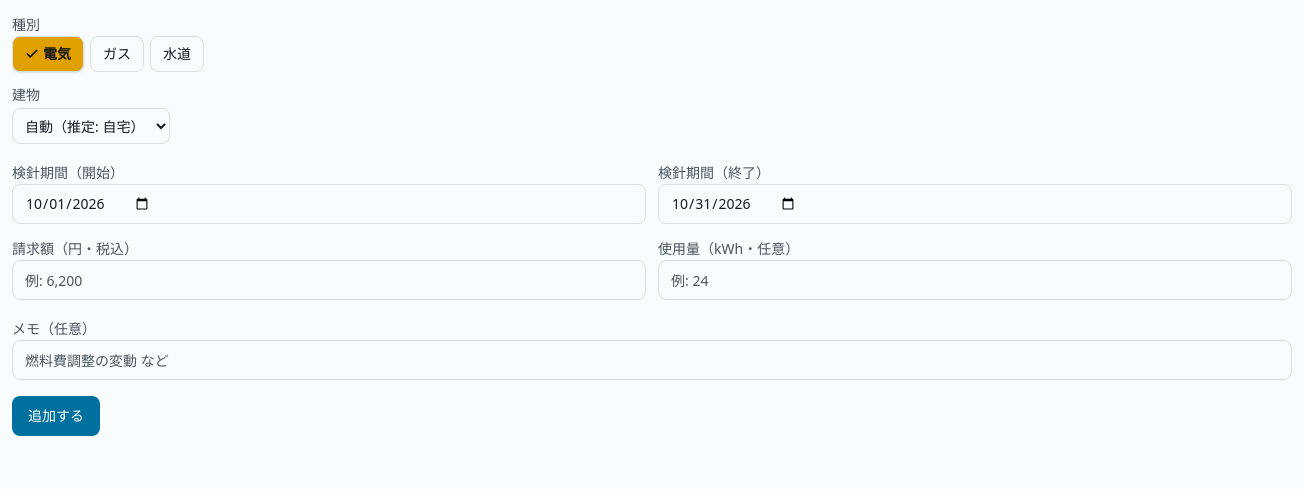
Test: EntryForm › adds a bill with a lenient amount, infers the building from the period and moves on to the next period
Type "2026-07-01" into the date field labelled "検針期間（開始）" at [329, 204], box [12,184,646,224]
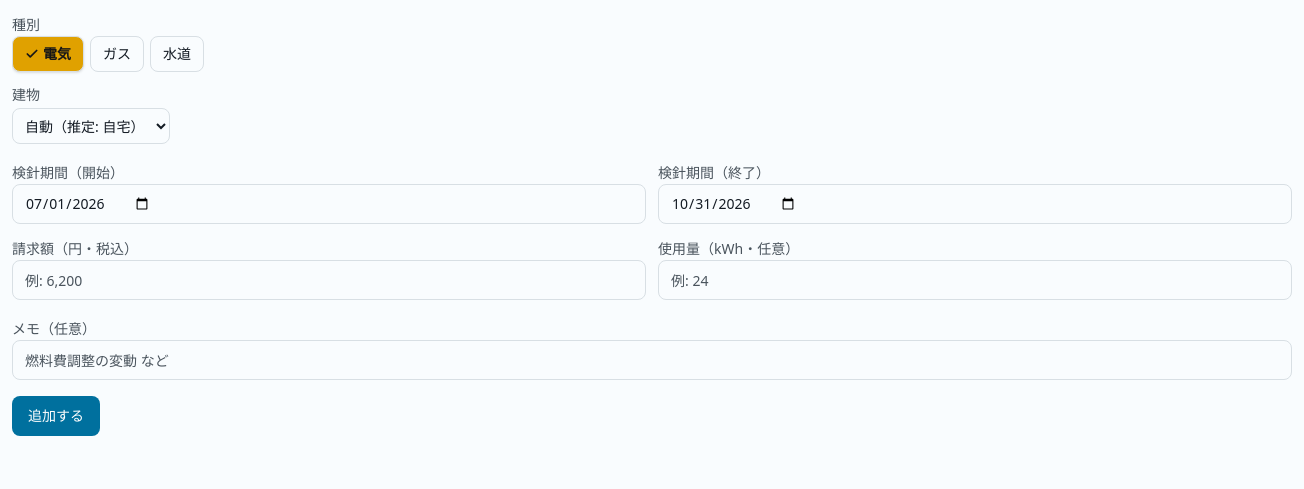
Type "2026-07-31" into the date field labelled "検針期間（終了）" at [975, 204], box [658,184,1292,224]
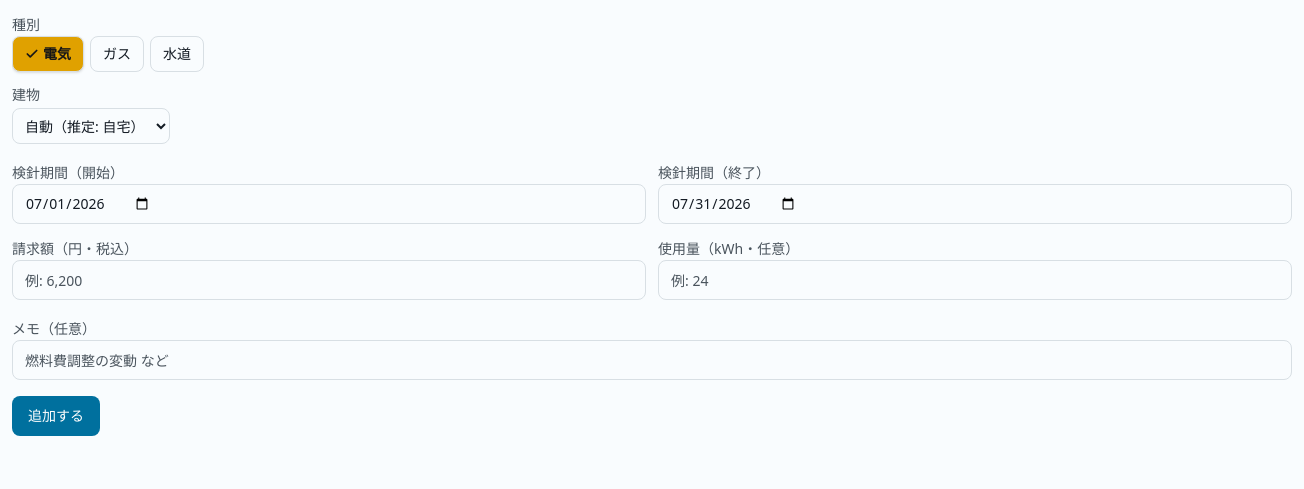
Type "¥6,200" into the field labelled "請求額（円・税込）" at [329, 280], box [12,260,646,300]
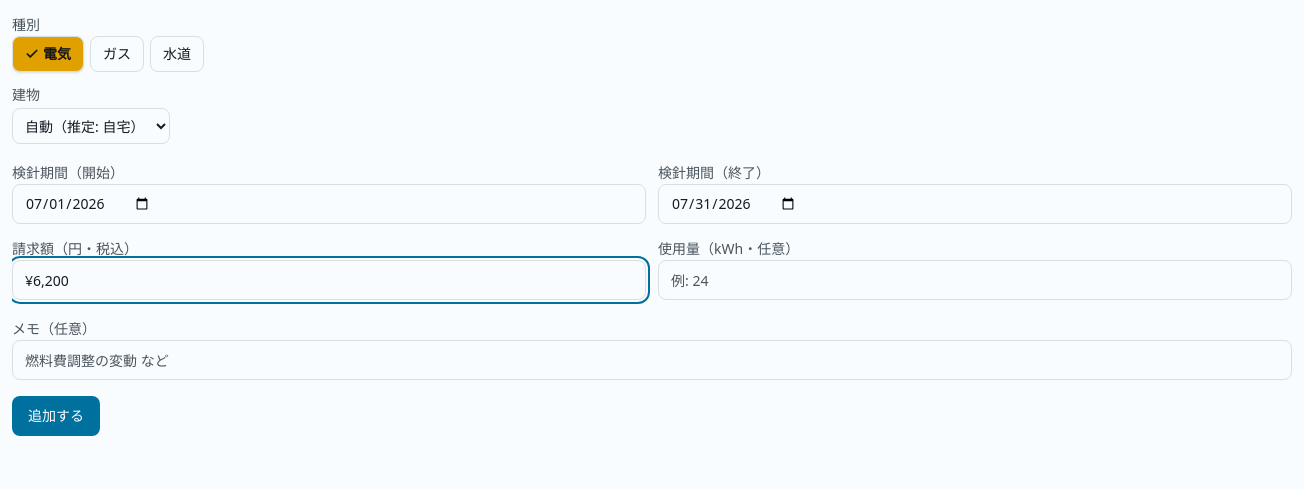
Type "210" into the field labelled "使用量（kWh・任意）" at [975, 280], box [658,260,1292,300]
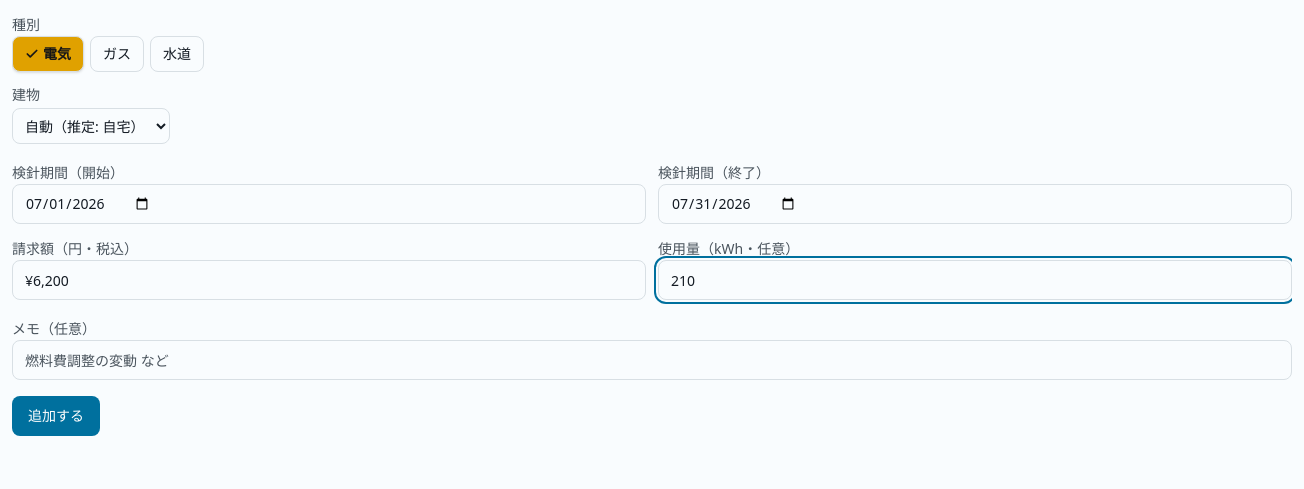
Type "  エアコン  " into the field labelled "メモ（任意）" at [652, 360], box [12,340,1292,380]
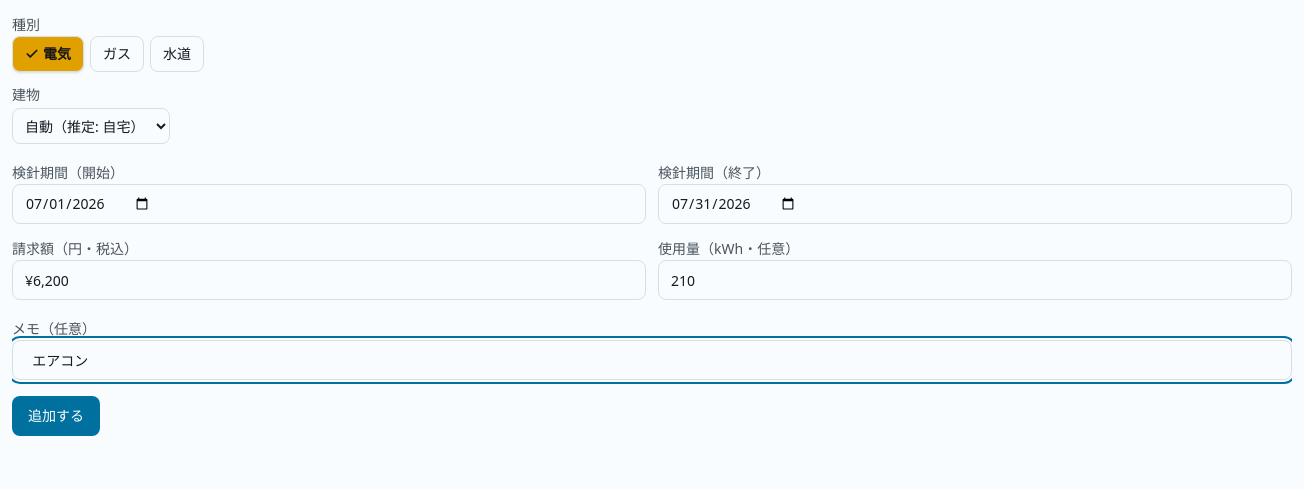
Click the button "追加する" at [56, 416], box [12,396,100,436]
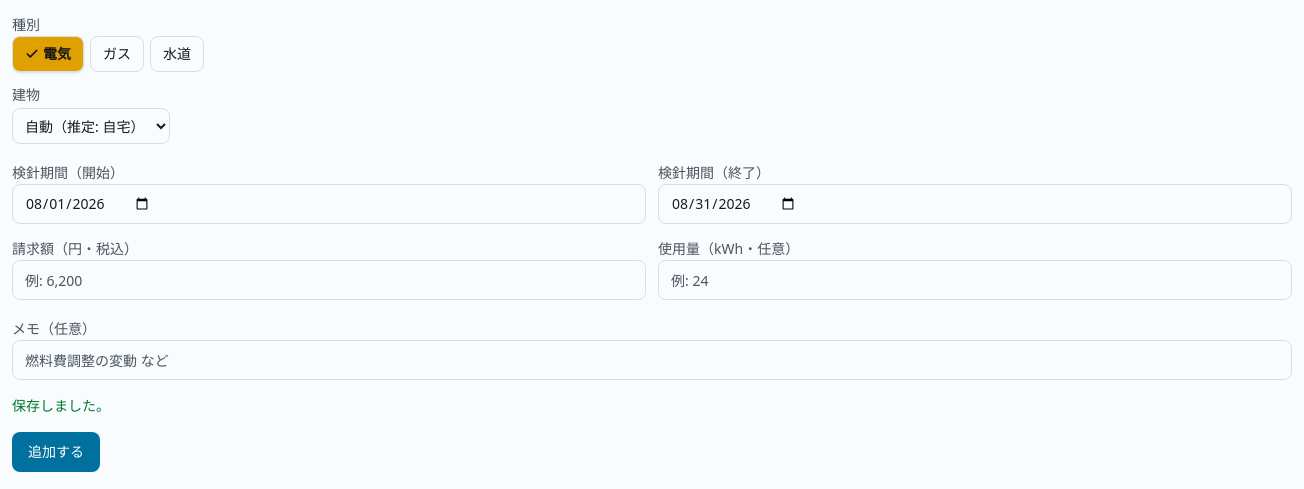
expect the text "保存しました。" is shown: met, box [12,396,110,415]
expect the field labelled "請求額（円・税込）" is empty: met, box [12,260,646,300]
